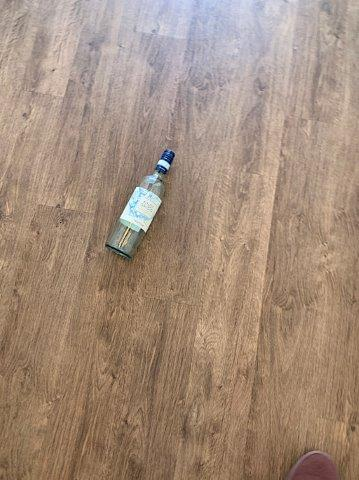botolkaca: (106, 148, 175, 259)
